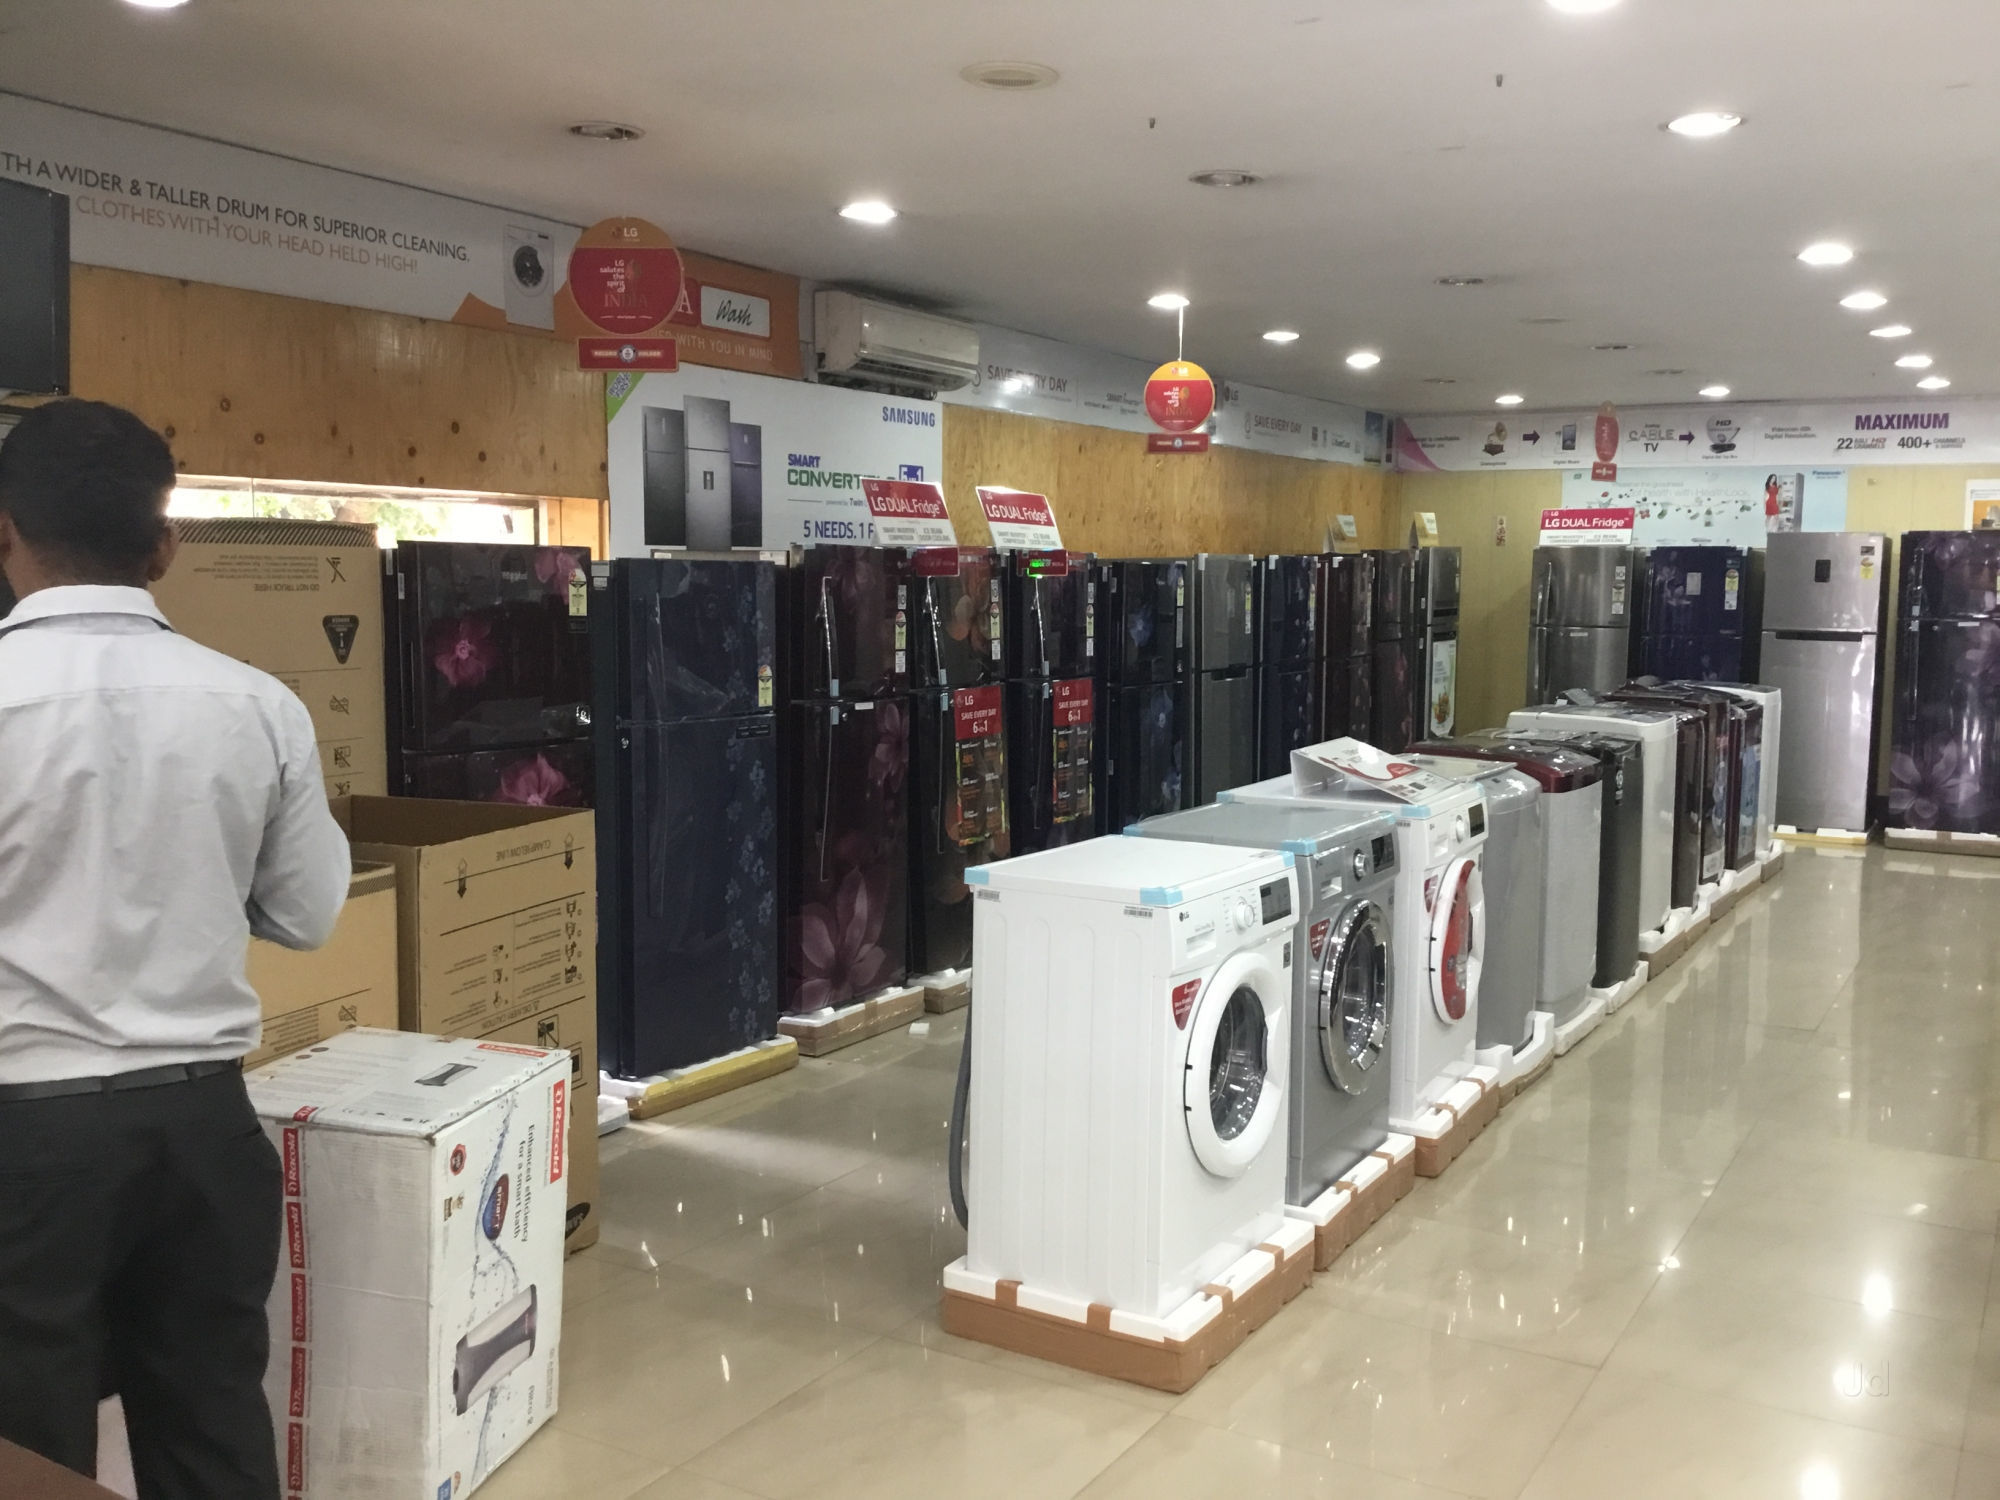Refrigerator: (627, 570, 772, 1049), (395, 544, 592, 804), (792, 548, 902, 988), (1780, 536, 1880, 843), (1902, 529, 1991, 832), (928, 566, 1013, 859), (1539, 548, 1631, 695), (1647, 551, 1742, 673)
